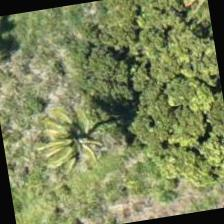Kelapa_Sawit: (25, 80, 128, 182)
